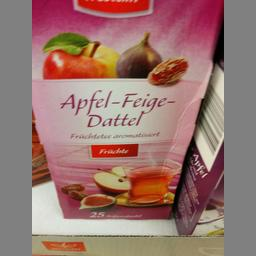tea: (30, 0, 220, 218)
